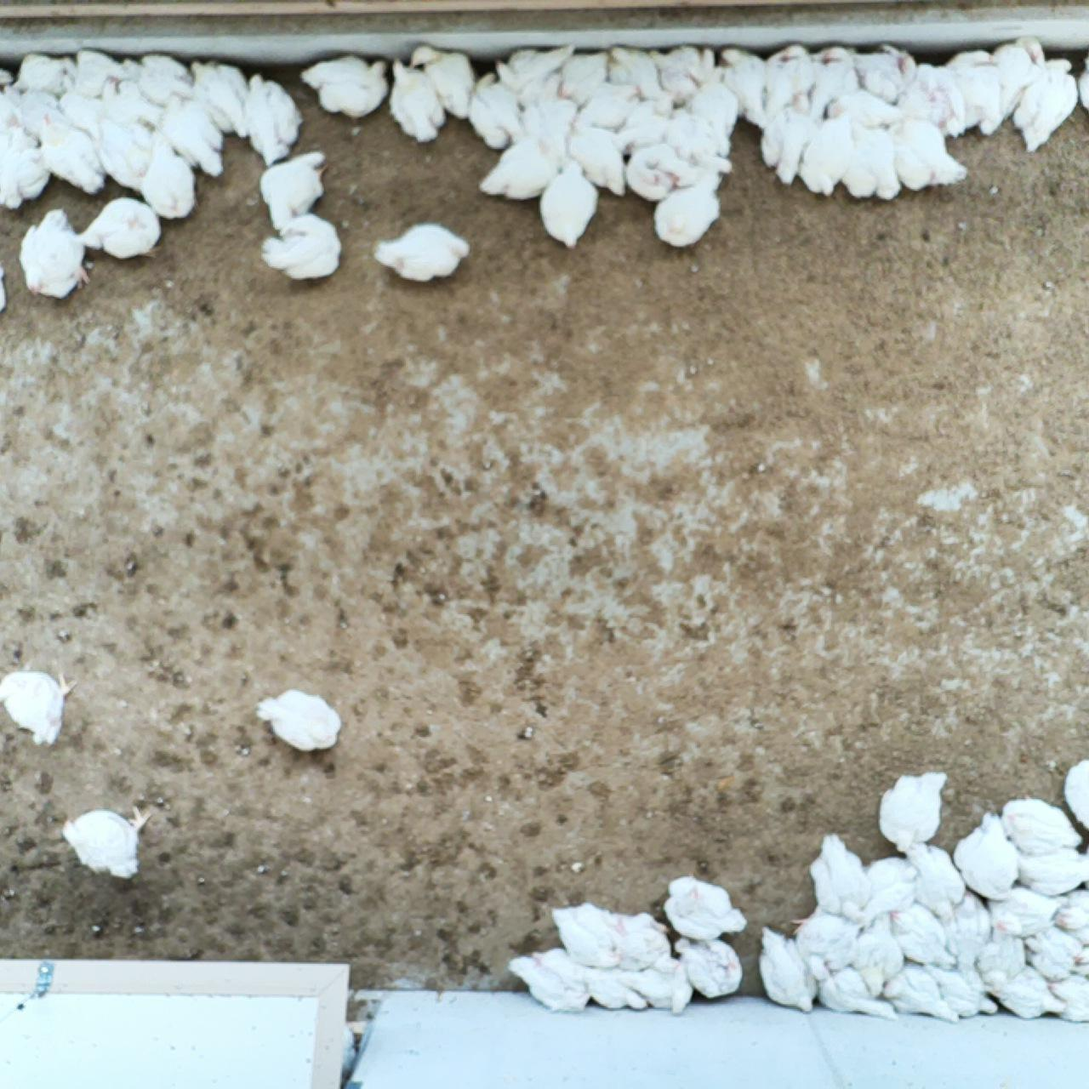chicken: (63, 806, 153, 878), (20, 208, 90, 298), (374, 222, 470, 284), (0, 670, 78, 745), (956, 810, 1018, 901), (261, 211, 342, 280), (261, 150, 329, 232), (1019, 58, 1077, 153), (665, 875, 748, 941), (946, 49, 1010, 134), (301, 55, 388, 117), (73, 198, 162, 258), (901, 840, 966, 922), (257, 690, 342, 752), (40, 114, 105, 194), (245, 74, 302, 165), (885, 901, 958, 972), (507, 949, 589, 1012), (410, 42, 475, 121), (761, 925, 819, 1013), (880, 772, 947, 848), (540, 160, 598, 247), (480, 137, 560, 200), (811, 833, 868, 921), (789, 907, 858, 978), (896, 121, 968, 189), (166, 94, 225, 176), (656, 178, 725, 247), (391, 57, 445, 143), (552, 901, 621, 968), (190, 61, 250, 138), (882, 965, 961, 1023), (842, 124, 903, 199), (98, 74, 166, 141), (565, 124, 629, 195), (142, 136, 196, 220), (996, 34, 1048, 120), (721, 46, 774, 130), (1004, 798, 1082, 854), (99, 118, 155, 196), (667, 113, 736, 175), (762, 104, 813, 186), (908, 61, 966, 133), (989, 966, 1069, 1018), (675, 937, 742, 999), (924, 962, 999, 1017), (618, 964, 698, 1015), (613, 911, 678, 973), (941, 889, 989, 971), (820, 971, 897, 1021), (122, 54, 198, 104), (496, 43, 573, 92), (805, 118, 852, 198), (652, 44, 717, 101), (519, 87, 581, 146), (469, 75, 522, 144), (855, 40, 921, 95), (862, 853, 917, 916), (582, 964, 651, 1013), (58, 75, 109, 141), (626, 142, 684, 198), (574, 83, 644, 128), (991, 891, 1060, 936), (1019, 851, 1089, 894), (825, 90, 905, 127), (67, 47, 124, 97), (561, 47, 614, 98), (762, 47, 811, 102), (609, 46, 665, 94), (979, 931, 1024, 990), (693, 81, 740, 137), (810, 44, 856, 98), (14, 51, 73, 93), (1049, 976, 1089, 1023), (1065, 757, 1089, 827), (1062, 889, 1088, 937), (1080, 53, 1089, 114)
